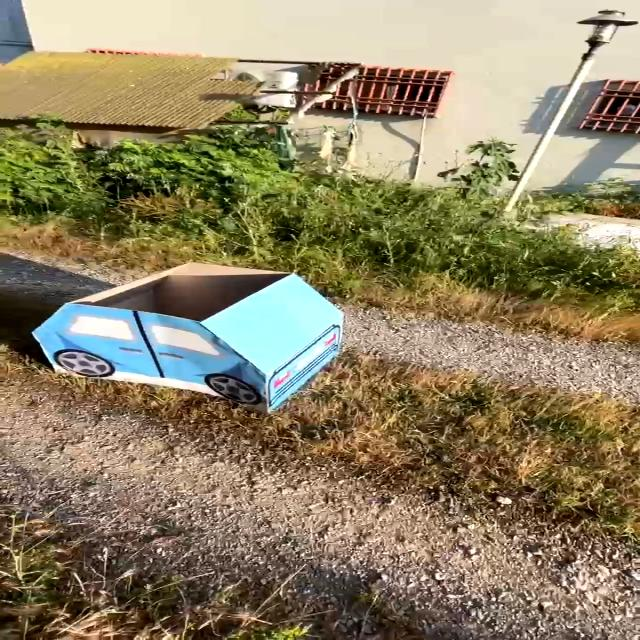blue_car: (0, 231, 391, 425)
